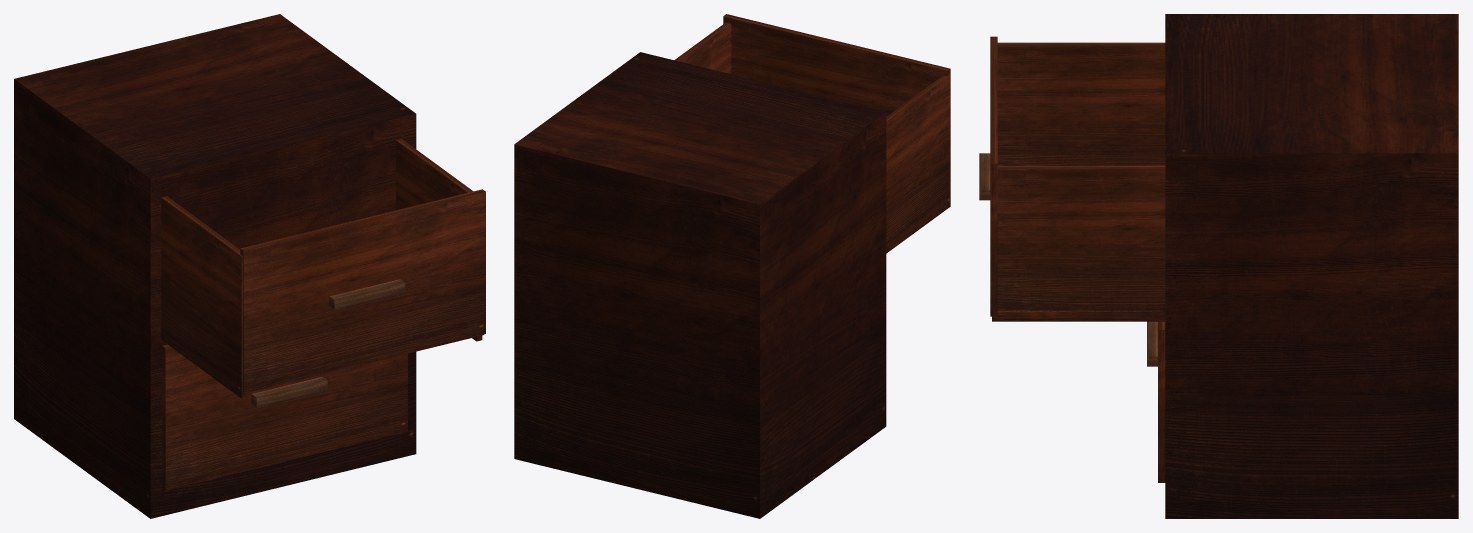
Rendered from state-mlsm2hfh-kpff.glb.
3 renders of one model, left to right at view 1: azimuth 30°, elevation 25°; view 2: azimuth 150°, elevation 25°; view 3: azimuth 270°, elevation 25°, orthographic. The views are drawn at different scales.
Visible parts, largest first — view 1: assetPrim:c73ce00cad78a8-19c732af8bf:bedside-body, assetPrim:c73ce00cad78a8-19c732af8bf:bedside-drawer-top, assetPrim:c73ce00cad78a8-19c732af8bf:bedside-drawer-bottom, assetPrim:c73ce00cad78a8-19c732af8bf:d12ea0fc82e53-19c72e460, assetPrim:c73ce00cad78a8-19c732af8bf:879e8cc107e628-19c72e3e, assetPrim:c73ce00cad78a8-19c732af8bf:bedside-handle-top, assetPrim:c73ce00cad78a8-19c732af8bf:bedside-handle-bottom; view 2: assetPrim:c73ce00cad78a8-19c732af8bf:bedside-body, assetPrim:c73ce00cad78a8-19c732af8bf:bedside-drawer-top, assetPrim:c73ce00cad78a8-19c732af8bf:d12ea0fc82e53-19c72e460, assetPrim:c73ce00cad78a8-19c732af8bf:879e8cc107e628-19c72e3e; view 3: assetPrim:c73ce00cad78a8-19c732af8bf:bedside-body, assetPrim:c73ce00cad78a8-19c732af8bf:879e8cc107e628-19c72e3e, assetPrim:c73ce00cad78a8-19c732af8bf:d12ea0fc82e53-19c72e460, assetPrim:c73ce00cad78a8-19c732af8bf:bedside-drawer-top, assetPrim:c73ce00cad78a8-19c732af8bf:78a1da78d8ac18-19c72e32, assetPrim:c73ce00cad78a8-19c732af8bf:bedside-drawer-bottom, assetPrim:c73ce00cad78a8-19c732af8bf:bedside-handle-top.
Boxes of the visible parts, x1,y1,x2,y2 form: assetPrim:c73ce00cad78a8-19c732af8bf:bedside-body: (14,14,416,518); assetPrim:c73ce00cad78a8-19c732af8bf:bedside-drawer-top: (240,189,485,392); assetPrim:c73ce00cad78a8-19c732af8bf:bedside-drawer-bottom: (162,344,407,490); assetPrim:c73ce00cad78a8-19c732af8bf:d12ea0fc82e53-19c72e460: (161,196,247,398); assetPrim:c73ce00cad78a8-19c732af8bf:879e8cc107e628-19c72e3e: (396,139,482,341); assetPrim:c73ce00cad78a8-19c732af8bf:bedside-handle-top: (329,279,405,309); assetPrim:c73ce00cad78a8-19c732af8bf:bedside-handle-bottom: (251,377,327,406); assetPrim:c73ce00cad78a8-19c732af8bf:bedside-body: (514,52,886,518); assetPrim:c73ce00cad78a8-19c732af8bf:bedside-drawer-top: (723,14,950,116); assetPrim:c73ce00cad78a8-19c732af8bf:d12ea0fc82e53-19c72e460: (886,75,950,253); assetPrim:c73ce00cad78a8-19c732af8bf:879e8cc107e628-19c72e3e: (674,22,731,73); assetPrim:c73ce00cad78a8-19c732af8bf:bedside-body: (1165,14,1458,518); assetPrim:c73ce00cad78a8-19c732af8bf:879e8cc107e628-19c72e3e: (992,165,1165,321); assetPrim:c73ce00cad78a8-19c732af8bf:d12ea0fc82e53-19c72e460: (997,42,1165,165); assetPrim:c73ce00cad78a8-19c732af8bf:bedside-drawer-top: (990,36,997,316); assetPrim:c73ce00cad78a8-19c732af8bf:78a1da78d8ac18-19c72e32: (993,310,1161,318); assetPrim:c73ce00cad78a8-19c732af8bf:bedside-drawer-bottom: (1158,321,1165,482); assetPrim:c73ce00cad78a8-19c732af8bf:bedside-handle-top: (979,153,990,200).
Size of the model in its own units: 0.45 by 0.55 by 0.6532.
8 materials, 8 textured.
